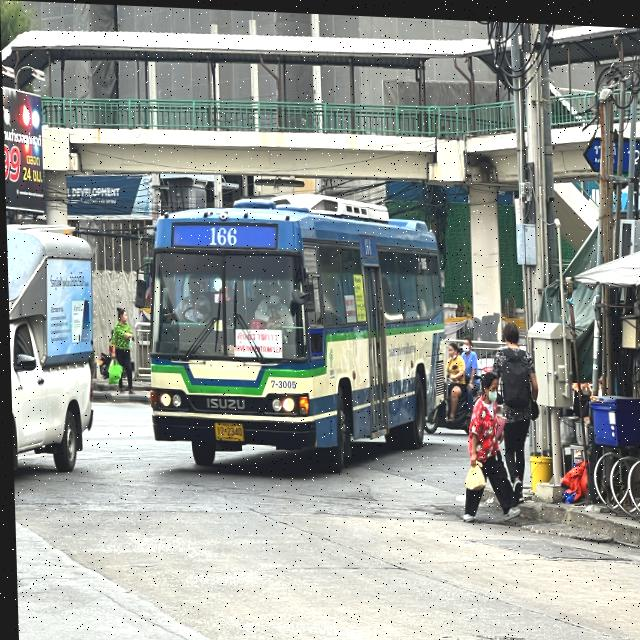BMTA-bus: (129, 176, 450, 481)
Bus Line Number: (205, 223, 238, 246)
Bus Side Number: (266, 374, 297, 390)
Destination Sign: (232, 327, 281, 358)
